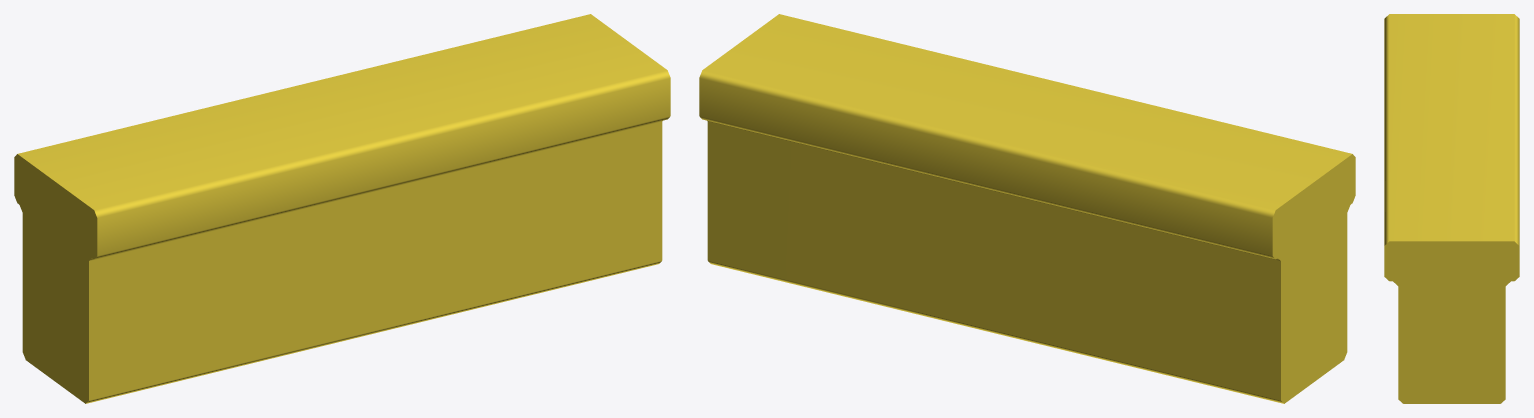
Rendered from mod_sc_roma_001_railing_002.fbx.
3 renders of one model, left to right at view 1: azimuth 30°, elevation 25°; view 2: azimuth 150°, elevation 25°; view 3: azimuth 270°, elevation 25°, orthographic. The views are drawn at different scales.
Parts seen in each view (by area): view 1: mod_sc_roma_001_railing_002; view 2: mod_sc_roma_001_railing_002; view 3: mod_sc_roma_001_railing_002.
Part boxes in pixels (x1,y1,x2,y2): mod_sc_roma_001_railing_002: [14, 14, 670, 403]; mod_sc_roma_001_railing_002: [699, 14, 1355, 403]; mod_sc_roma_001_railing_002: [1384, 14, 1519, 403].
Size of the model in its own units: 300 by 100 by 75.38.
